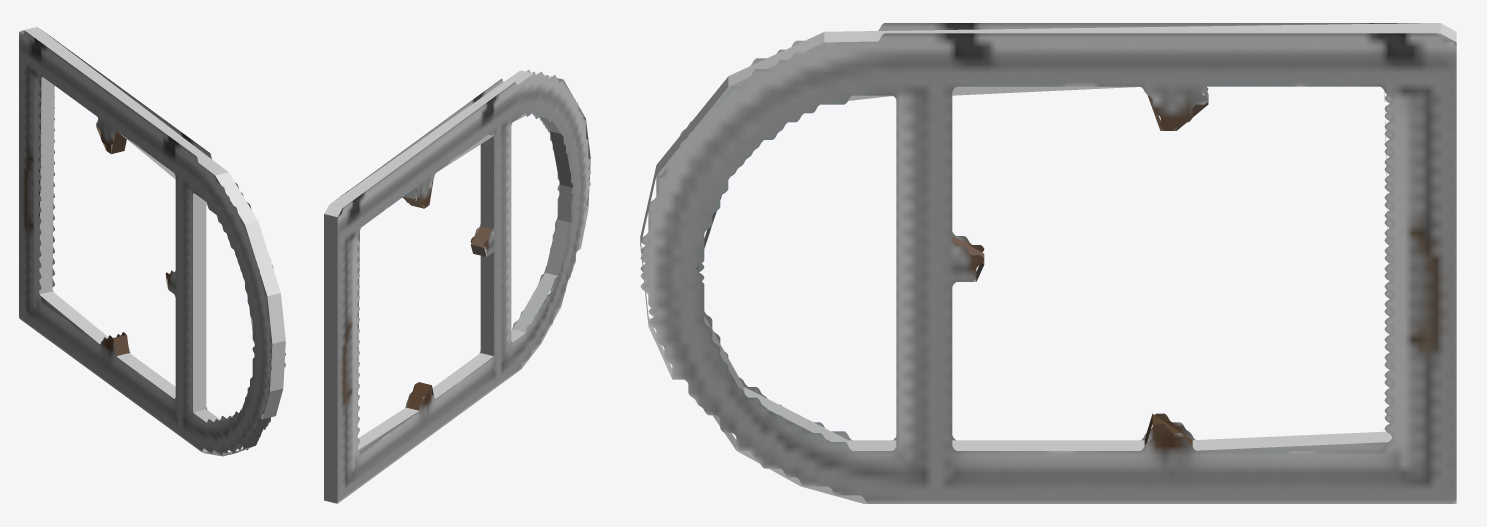
File: pz_native_fixtures_windows_white_74_frame.obj
The picture shows the model from 3 angles, left to right: view 1: azimuth 30°, elevation 25°; view 2: azimuth 150°, elevation 25°; view 3: azimuth 270°, elevation 25°; orthographic projection. The views are drawn at different scales.
Visible parts, largest first — view 1: pz_native_fixtures_windows_white_74_frame; view 2: pz_native_fixtures_windows_white_74_frame; view 3: pz_native_fixtures_windows_white_74_frame.
Part boxes in pixels (bbox=[...]): pz_native_fixtures_windows_white_74_frame: bbox=[19, 27, 285, 456]; pz_native_fixtures_windows_white_74_frame: bbox=[324, 70, 590, 503]; pz_native_fixtures_windows_white_74_frame: bbox=[640, 23, 1456, 503].
Bounding box in the file's own units: 0.04 × 0.8594 × 1.35.
1 material, 1 textured.
